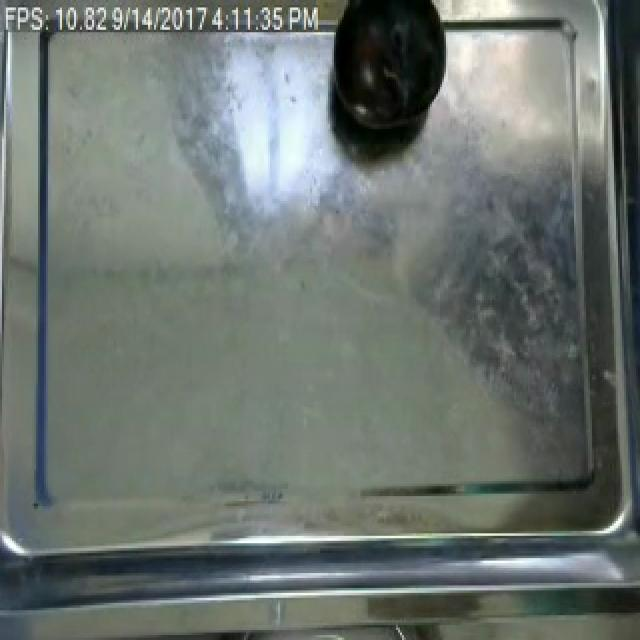Fruit: (326, 0, 452, 141)
